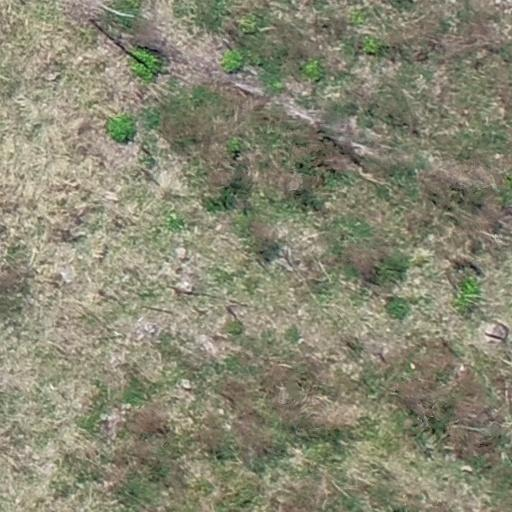stone: (483, 322, 506, 342), (175, 247, 191, 261), (175, 282, 193, 293), (180, 378, 192, 390), (460, 465, 473, 473)
